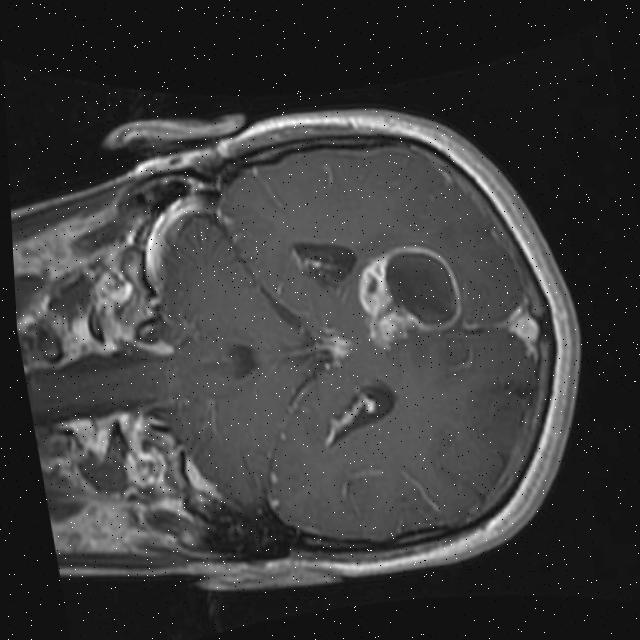Glioma: (347, 237, 469, 355)
